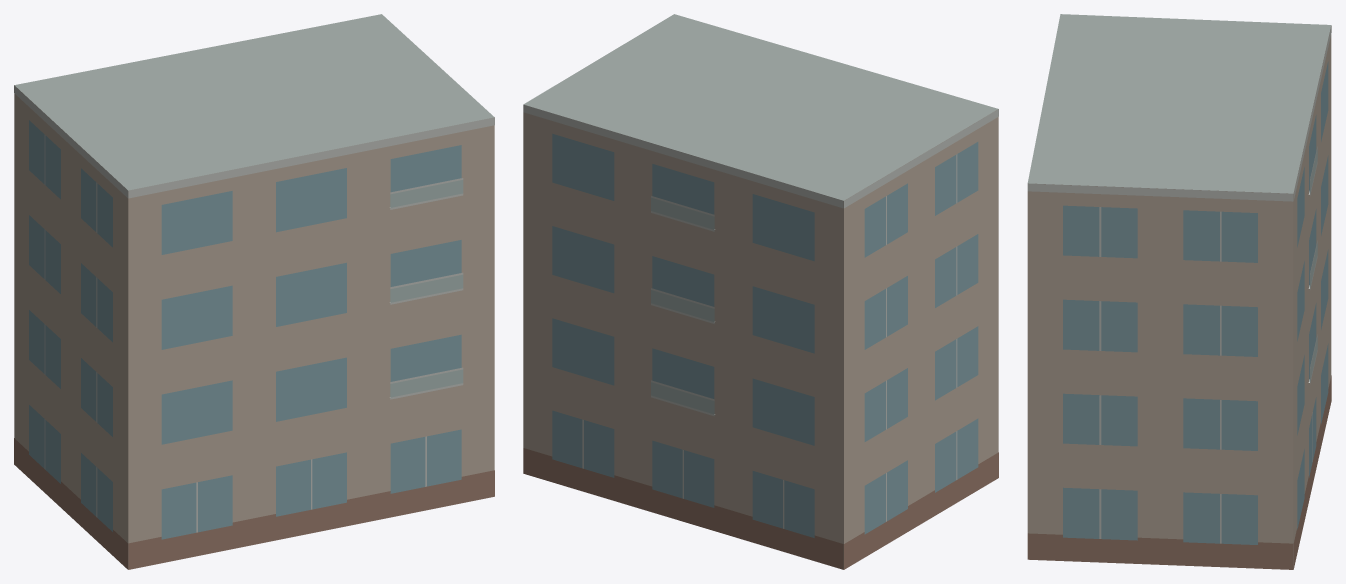
Rendered from survey-upis-32606941.glb.
3 views of the same model, side by side, from view 1: azimuth 30°, elevation 25°; view 2: azimuth 150°, elevation 25°; view 3: azimuth 270°, elevation 25° (orthographic). The views are drawn at different scales.
Parts seen in each view (by area): view 1: survey-upis-32606941.tmp; view 2: survey-upis-32606941.tmp; view 3: survey-upis-32606941.tmp.
Boxes of the visible parts, x1,y1,x2,y2 form: survey-upis-32606941.tmp: (14,14,494,569); survey-upis-32606941.tmp: (523,14,998,569); survey-upis-32606941.tmp: (1027,14,1331,569).
Bounding box in the file's own units: 11.89 × 11.6 × 8.5.
